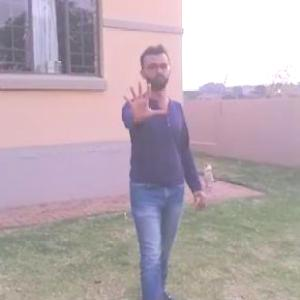follow_hand: (119, 73, 169, 126)
